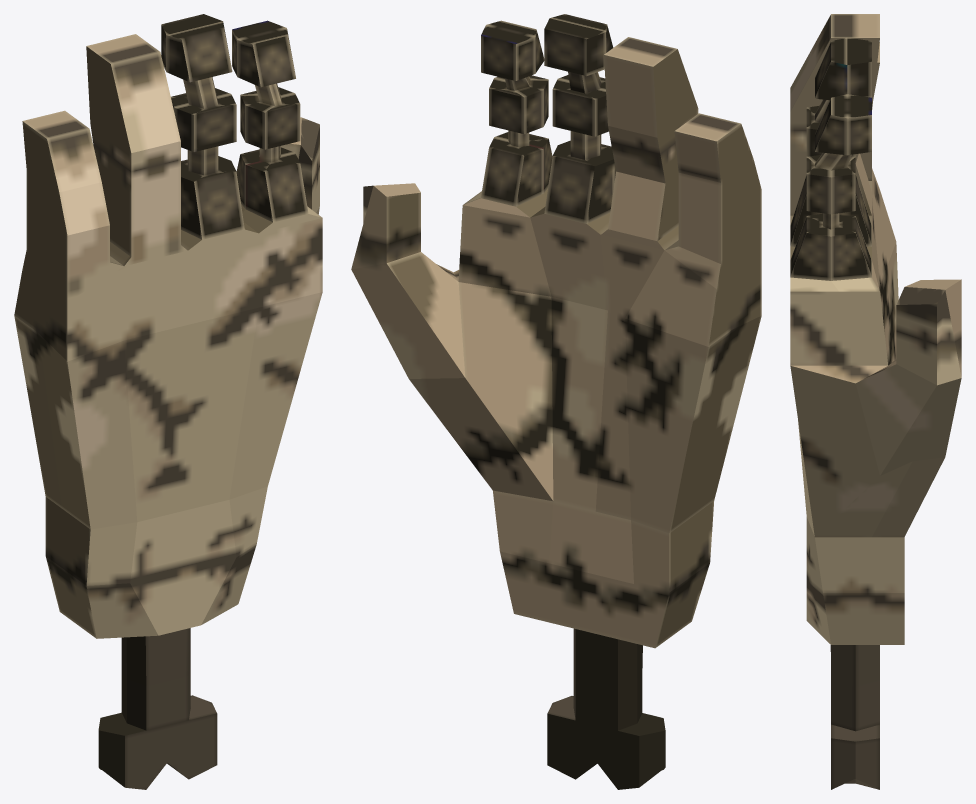
File: EnemyHand2.fbx
3 renders of one model, left to right at view 1: azimuth 30°, elevation 25°; view 2: azimuth 150°, elevation 25°; view 3: azimuth 270°, elevation 25°, orthographic.
Visible parts, largest first — view 1: Hand; view 2: Hand; view 3: Hand.
Part boxes in pixels (left/top/right/bottom): Hand: left=14, top=14, right=322, bottom=789; Hand: left=351, top=14, right=761, bottom=789; Hand: left=790, top=14, right=961, bottom=789.
Bounding box in the file's own units: 144 × 312 × 65.62.
1 material, 1 textured.
